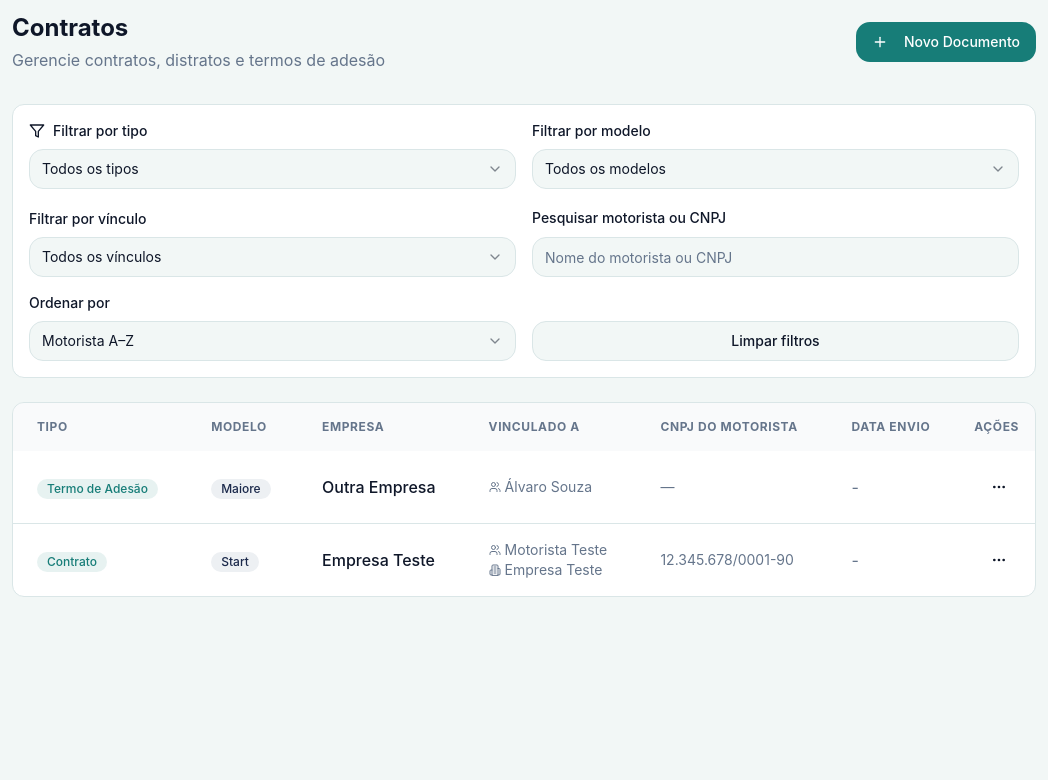
Test: ordena pelo nome do motorista e restaura a ordem mais recente ao limpar
Earlier steps of the test are not shown.
Click the button "Limpar filtros" at point(776, 341), box [532, 321, 1019, 361]
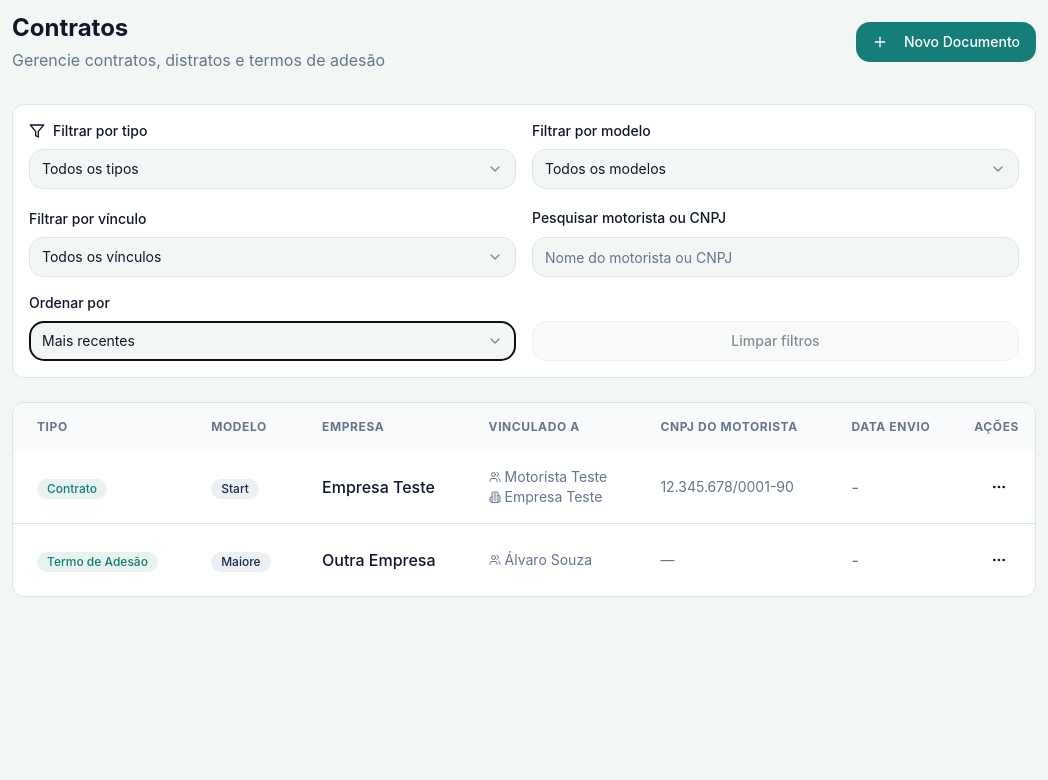
expect the row that starts with "Contrato" shows "Motorista Teste": met, box [505, 468, 607, 485]
expect the dropdown named "Ordenar por" reads "Mais recentes": met, box [29, 321, 516, 361]
